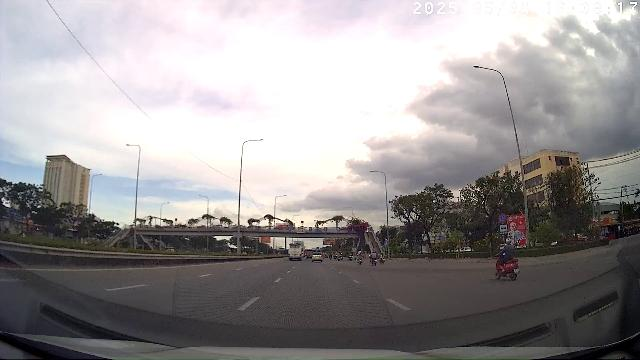130-cam-dung-va-do-xe: (498, 212, 508, 223)
